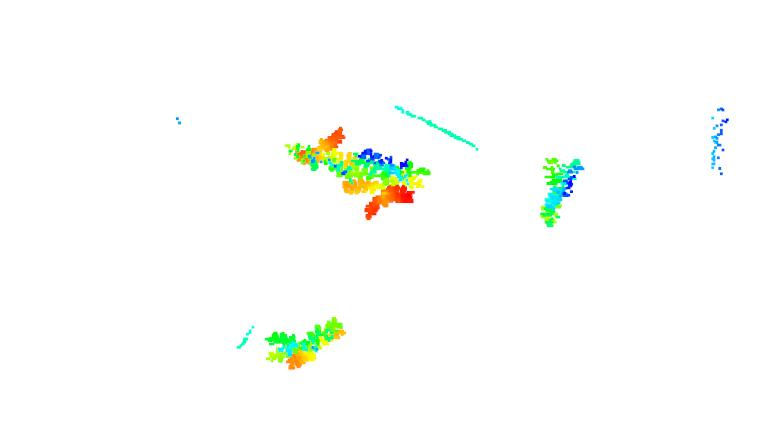chickpea: (339, 146, 432, 221), (262, 317, 352, 371), (535, 153, 584, 228), (284, 127, 360, 173)
